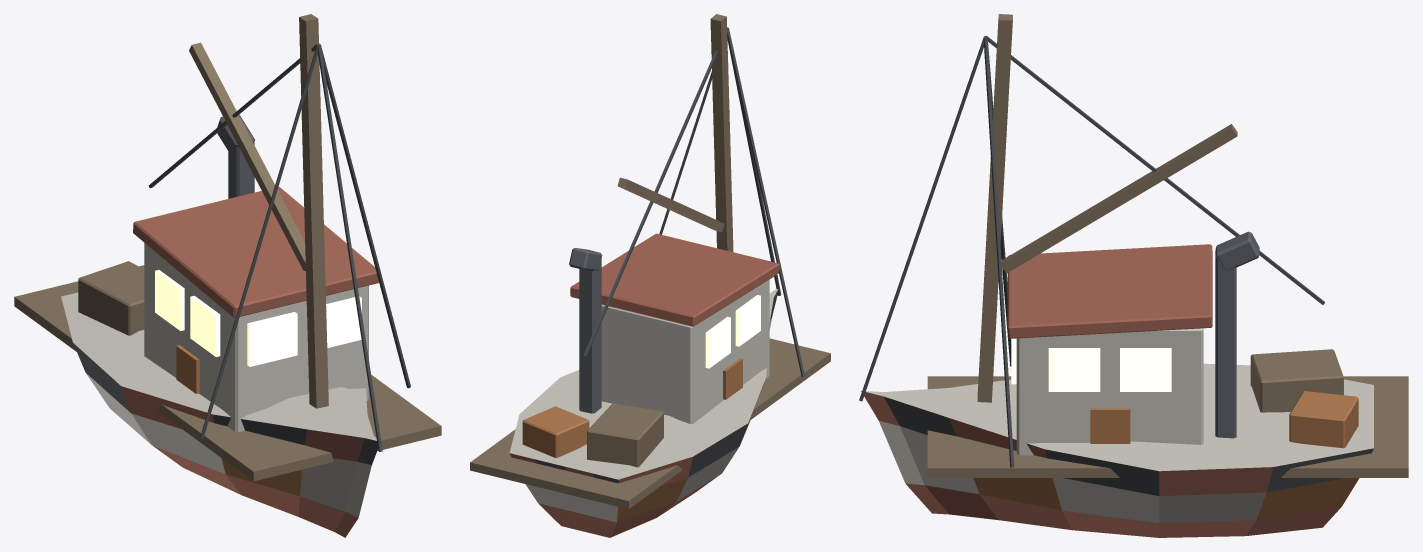
File: outdoor_trawler.glb
3 renders of one model, left to right at view 1: azimuth 30°, elevation 25°; view 2: azimuth 150°, elevation 25°; view 3: azimuth 270°, elevation 25°, orthographic. The views are drawn at different scales.
Visible parts, largest first — view 1: Outdoor_Trawler; view 2: Outdoor_Trawler; view 3: Outdoor_Trawler.
Boxes of the visible parts, box(x1,y1,x2,y2) form: Outdoor_Trawler: box(14, 14, 441, 537); Outdoor_Trawler: box(470, 14, 830, 537); Outdoor_Trawler: box(859, 14, 1408, 537).
Size of the model in its own units: 2.9 by 6.15 by 6.17.
